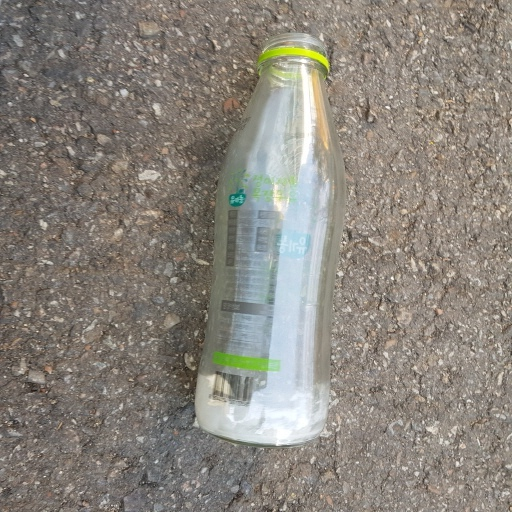Glass_4: (195, 32, 350, 449)
